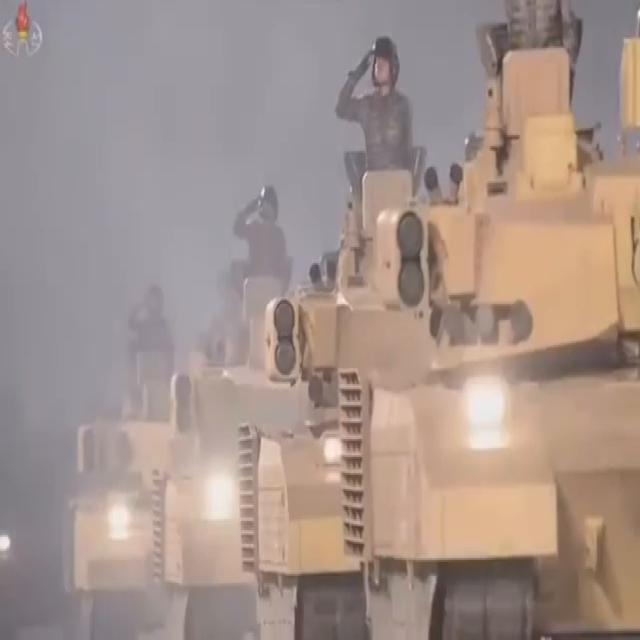north tank: (357, 79, 640, 640), (245, 160, 388, 640), (56, 322, 169, 637), (160, 269, 255, 640)
